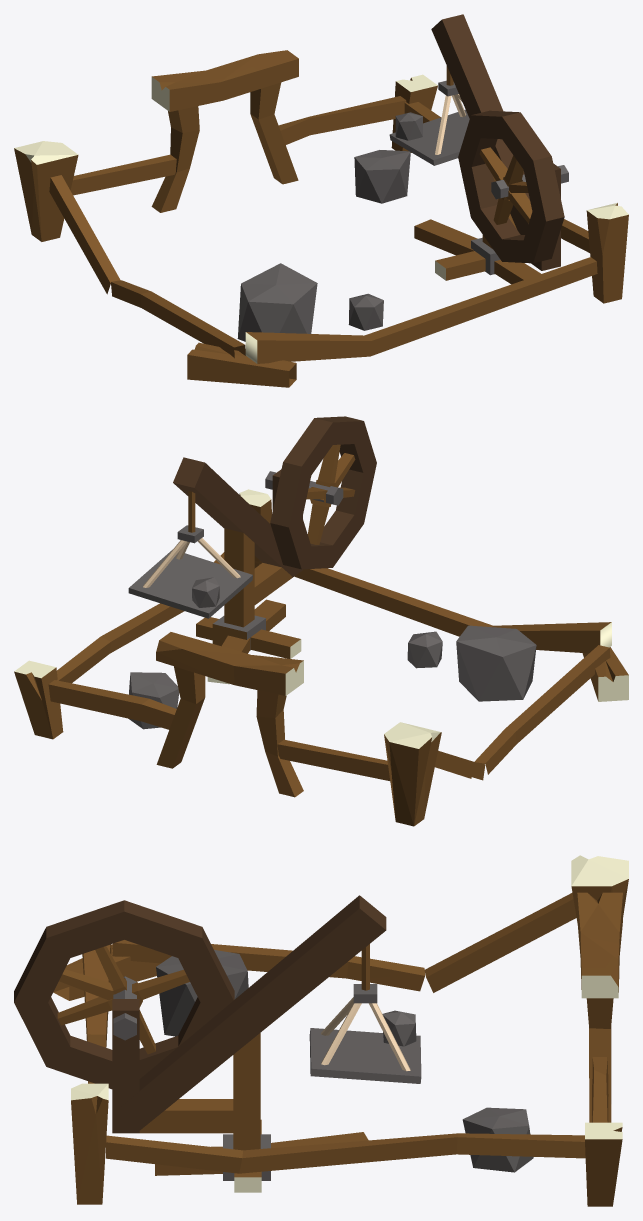
File: RESERVE PIERRE 2.fbx
3 views of the same model, one above another, from view 1: azimuth 30°, elevation 25°; view 2: azimuth 150°, elevation 25°; view 3: azimuth 270°, elevation 25° (orthographic). The views are drawn at different scales.
Parts seen in each view (by area): view 1: Cube.005; view 2: Cube.005; view 3: Cube.005.
Part boxes in pixels (x1=…): Cube.005: x1=14, y1=14, x2=628, y2=387; Cube.005: x1=14, y1=416, x2=628, y2=826; Cube.005: x1=14, y1=855, x2=628, y2=1206.
Bounding box in the file's own units: 600 × 300 × 600.
